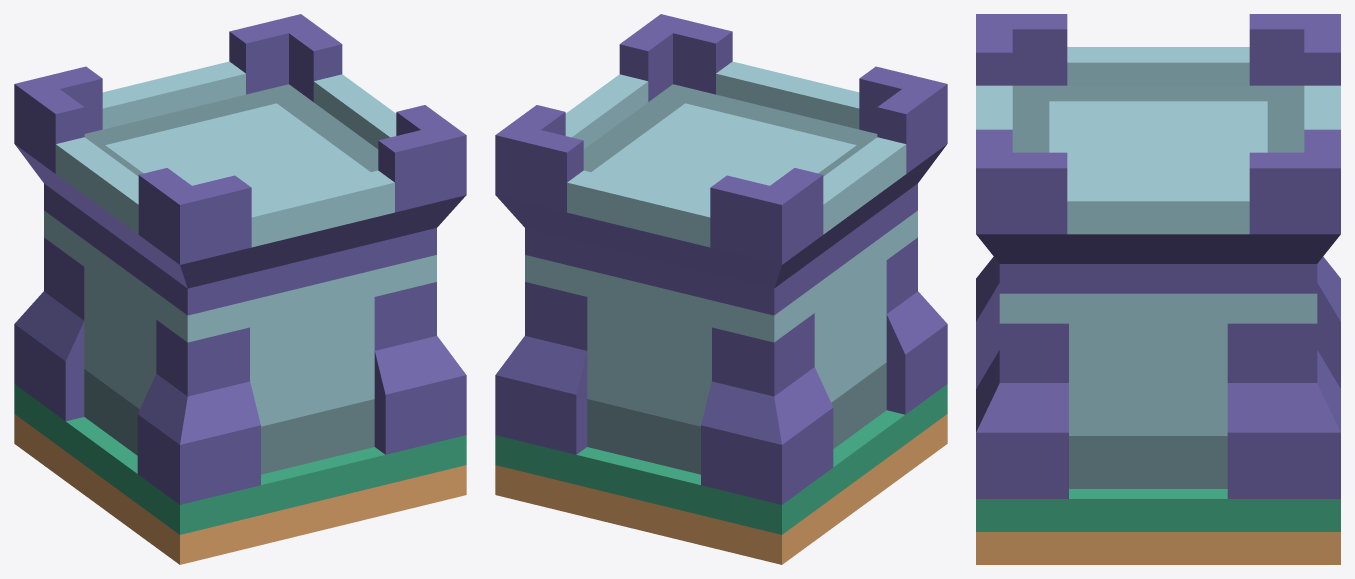
Rendered from tile_tower_cannon.obj.
3 renders of one model, left to right at view 1: azimuth 30°, elevation 25°; view 2: azimuth 150°, elevation 25°; view 3: azimuth 270°, elevation 25°, orthographic. The views are drawn at different scales.
Parts seen in each view (by area): view 1: towerSquare_sampleE001, tile; view 2: towerSquare_sampleE001, tile; view 3: towerSquare_sampleE001, tile.
Boxes of the visible parts, x1,y1,x2,y2 form: towerSquare_sampleE001: (14,14,466,504); tile: (14,384,466,564); towerSquare_sampleE001: (495,14,947,504); tile: (495,384,947,564); towerSquare_sampleE001: (976,14,1340,498); tile: (976,388,1340,564).
Size of the model in its own units: 1 by 1.2 by 1.
